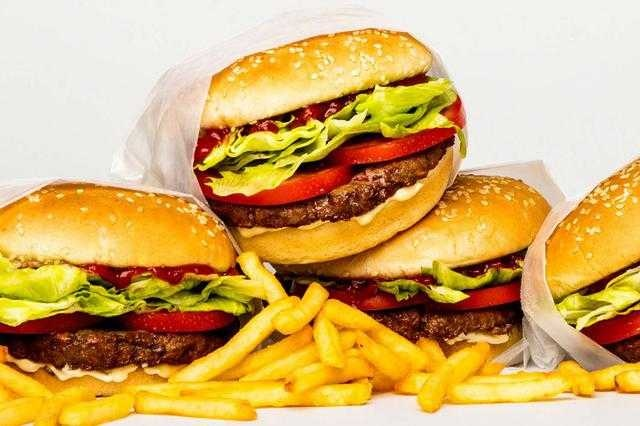hamburger: (201, 28, 440, 253), (292, 170, 558, 346), (1, 180, 232, 372), (535, 188, 640, 363)
